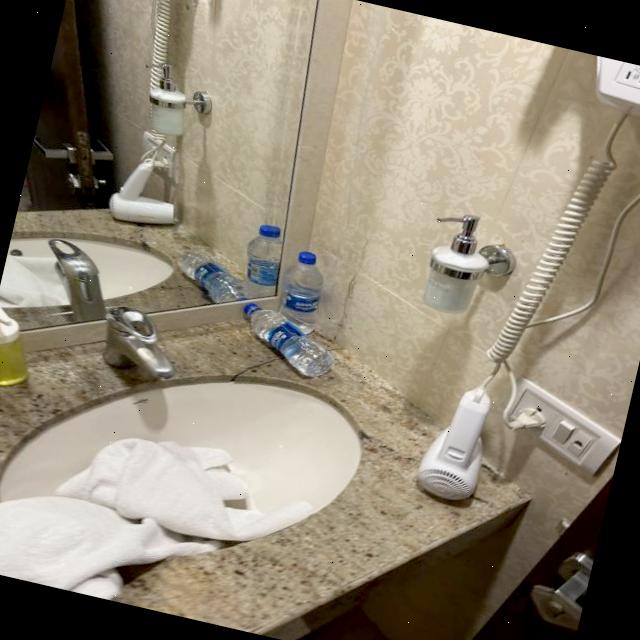disorganized_towel: (0, 437, 319, 598)
messy_sink: (0, 270, 409, 611)
